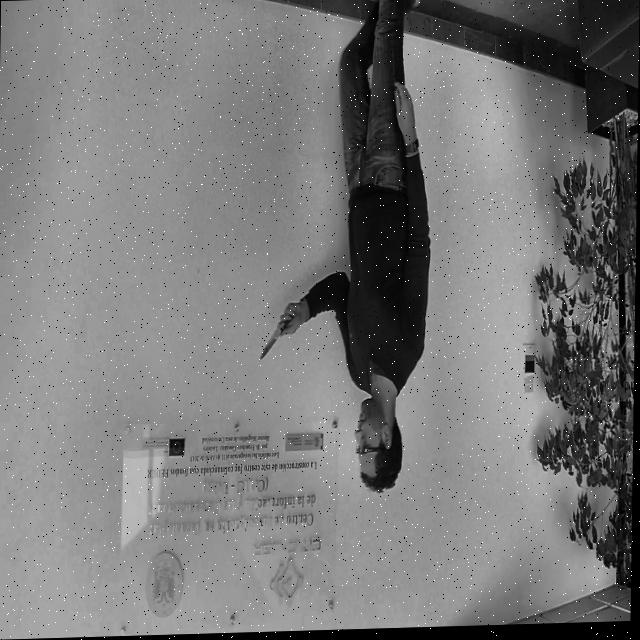knife: (256, 321, 285, 366)
